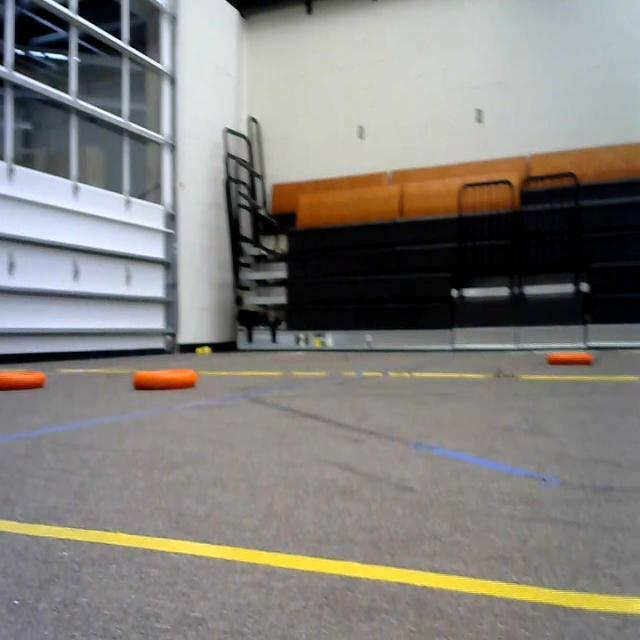note: (127, 361, 198, 397), (548, 344, 595, 379), (0, 366, 53, 394)
